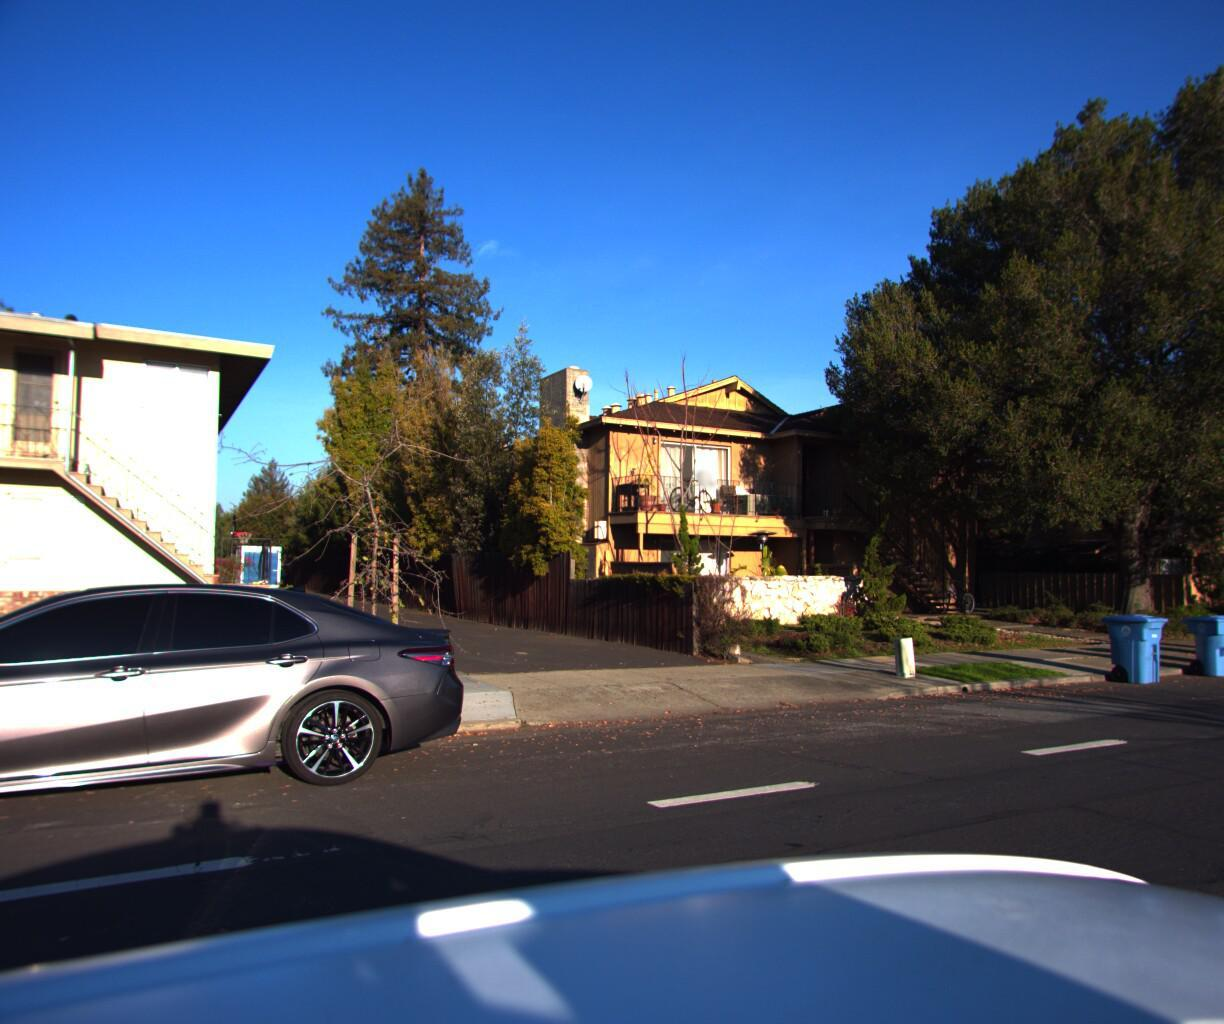bicycle: (928, 569, 982, 612)
car: (0, 583, 491, 909)
